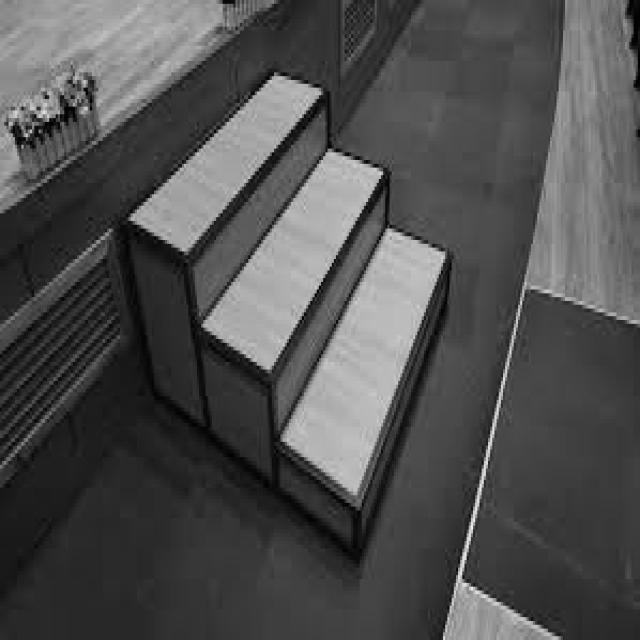stair: (125, 64, 451, 557), (197, 145, 453, 559)
